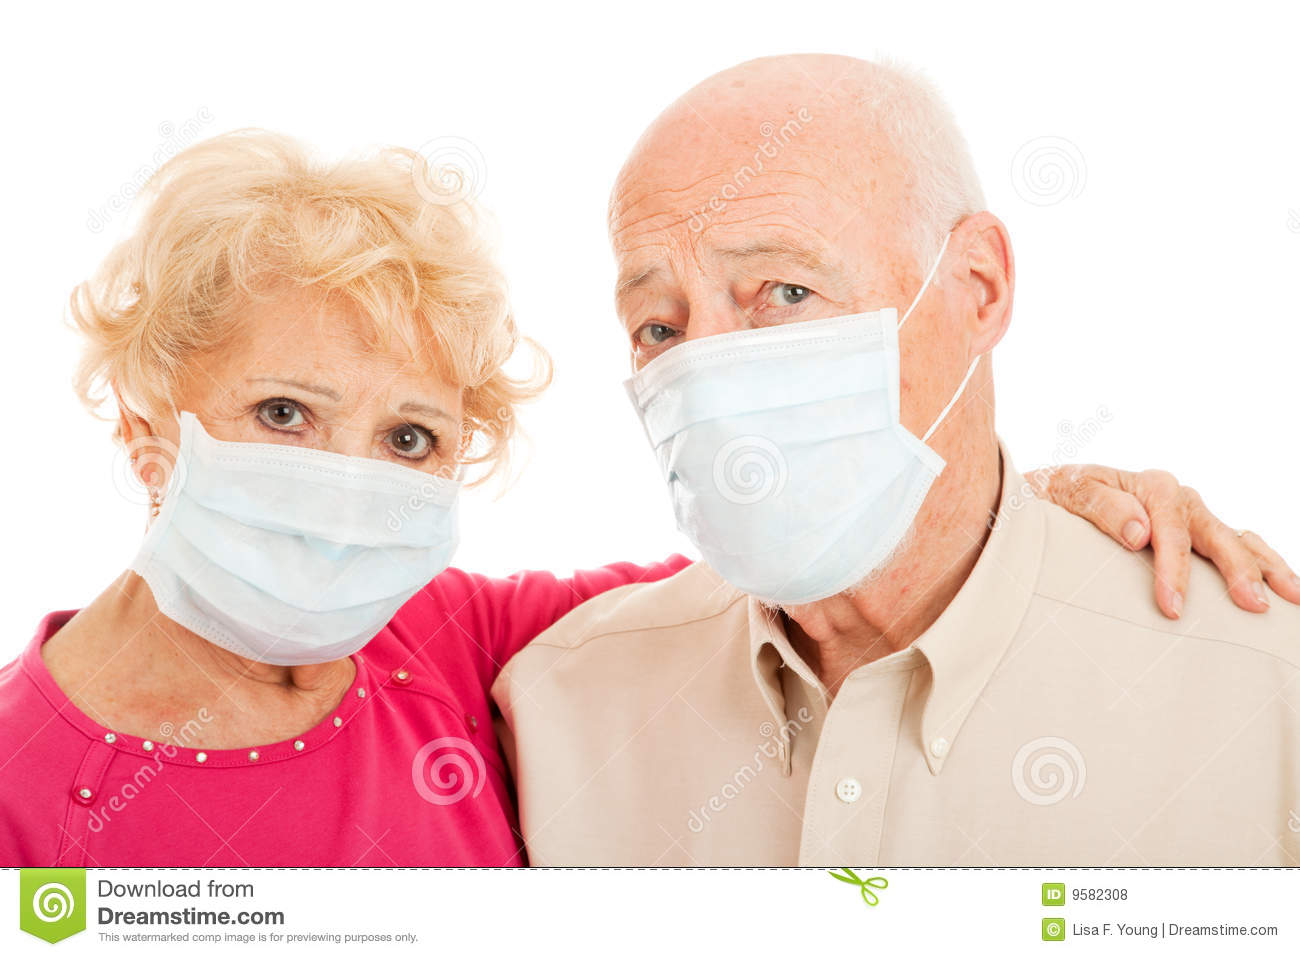mask: (623, 309, 958, 611), (134, 426, 454, 675)
